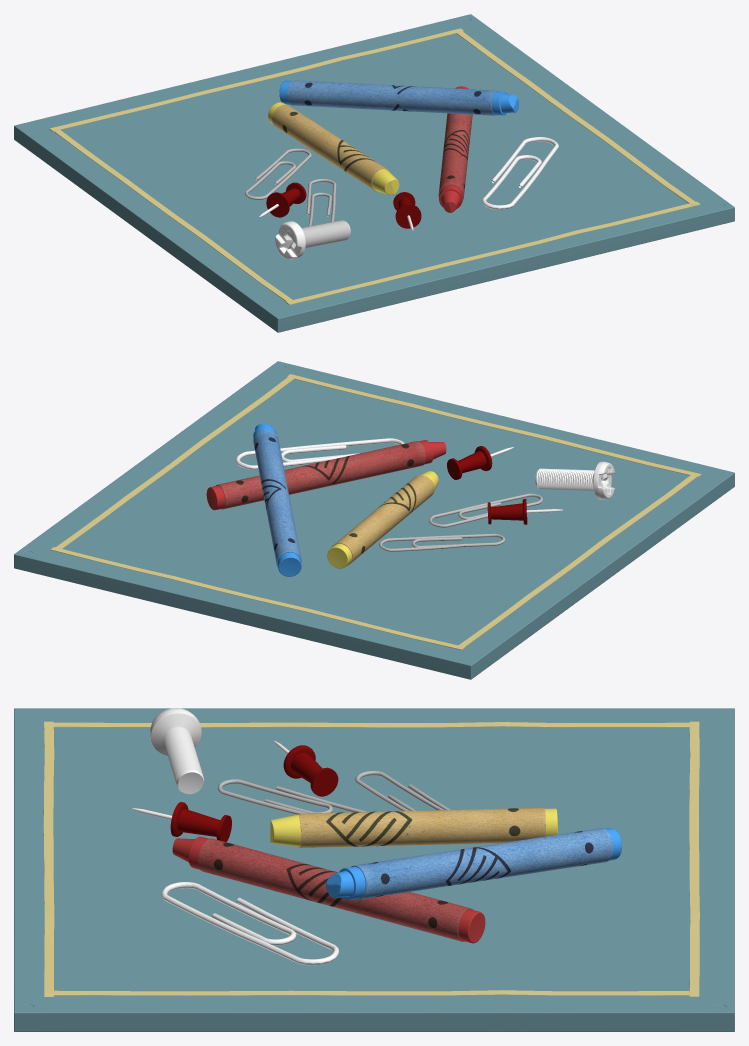
File: clutter.glb
3 renders of one model, top to bottom at view 1: azimuth 30°, elevation 25°; view 2: azimuth 150°, elevation 25°; view 3: azimuth 270°, elevation 25°, orthographic. The views are drawn at different scales.
Parts seen in each view (by area): view 1: Mesh5_Plastic_Blue_0, Wax_Pastel_05, Wax_Pastel_04, Wax_Pastel_03, Bolt_02, Decal_Floor_Caution_Line, pCube91, pCube92, pCube93, Paperclip_04, Pin7, Paperclip_05 (+2 smaller); view 2: Mesh5_Plastic_Blue_0, Wax_Pastel_03, Wax_Pastel_05, Wax_Pastel_04, Bolt_02, Decal_Floor_Caution_Line, pCube91, pCube92, pCube93, Paperclip_04, Paperclip_05, Pin6 (+2 smaller); view 3: Mesh5_Plastic_Blue_0, Wax_Pastel_05, Wax_Pastel_04, Wax_Pastel_03, Paperclip_04, pCube93, pCube92, Bolt_02, Decal_Floor_Caution_Line, pCube91, Pin7, Pin6 (+2 smaller).
Boxes of the visible parts, x1=… form: Mesh5_Plastic_Blue_0: x1=14, y1=14, x2=734, y2=332; Wax_Pastel_05: x1=279, y1=80, x2=518, y2=115; Wax_Pastel_04: x1=268, y1=102, x2=399, y2=194; Wax_Pastel_03: x1=438, y1=86, x2=472, y2=212; Bolt_02: x1=275, y1=220, x2=350, y2=259; Decal_Floor_Caution_Line: x1=49, y1=28, x2=464, y2=131; pCube91: x1=286, y1=201, x2=700, y2=304; pCube92: x1=54, y1=129, x2=295, y2=303; pCube93: x1=456, y1=31, x2=698, y2=205; Paperclip_04: x1=482, y1=137, x2=558, y2=209; Pin7: x1=259, y1=182, x2=306, y2=217; Paperclip_05: x1=244, y1=148, x2=311, y2=199; Mesh5_Plastic_Blue_0: x1=14, y1=361, x2=734, y2=679; Wax_Pastel_03: x1=206, y1=440, x2=446, y2=510; Wax_Pastel_05: x1=253, y1=423, x2=301, y2=576; Wax_Pastel_04: x1=327, y1=471, x2=438, y2=568; Bolt_02: x1=535, y1=461, x2=614, y2=499; Decal_Floor_Caution_Line: x1=50, y1=547, x2=464, y2=650; pCube91: x1=287, y1=374, x2=701, y2=477; pCube92: x1=458, y1=473, x2=699, y2=646; pCube93: x1=56, y1=374, x2=296, y2=548; Paperclip_04: x1=235, y1=438, x2=404, y2=469; Paperclip_05: x1=379, y1=533, x2=505, y2=551; Pin6: x1=447, y1=446, x2=513, y2=479; Mesh5_Plastic_Blue_0: x1=14, y1=708, x2=734, y2=1031; Wax_Pastel_05: x1=326, y1=827, x2=621, y2=899; Wax_Pastel_04: x1=270, y1=807, x2=557, y2=847; Wax_Pastel_03: x1=172, y1=836, x2=485, y2=943; Paperclip_04: x1=161, y1=882, x2=338, y2=965; pCube93: x1=45, y1=990, x2=689, y2=995; pCube92: x1=45, y1=722, x2=689, y2=727; Bolt_02: x1=149, y1=708, x2=204, y2=794; Decal_Floor_Caution_Line: x1=689, y1=721, x2=699, y2=996; pCube91: x1=43, y1=721, x2=54, y2=996; Pin7: x1=273, y1=740, x2=338, y2=796; Pin6: x1=132, y1=802, x2=231, y2=842.
Bounding box in the file's own units: 0.228 × 0.0314 × 0.228.
Materials: 11 (4 with a texture image).
